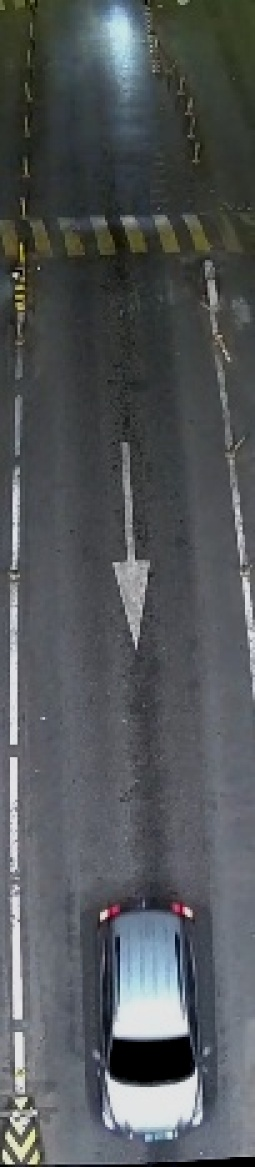car: (80, 881, 225, 1148)
